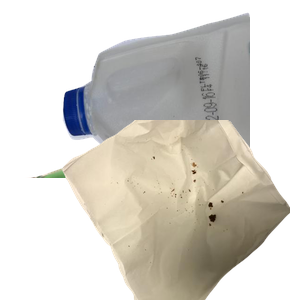glass: (23, 120, 263, 300)
metal: (102, 60, 252, 169)
plastic: (60, 10, 300, 175)
trash: (60, 120, 300, 300)
